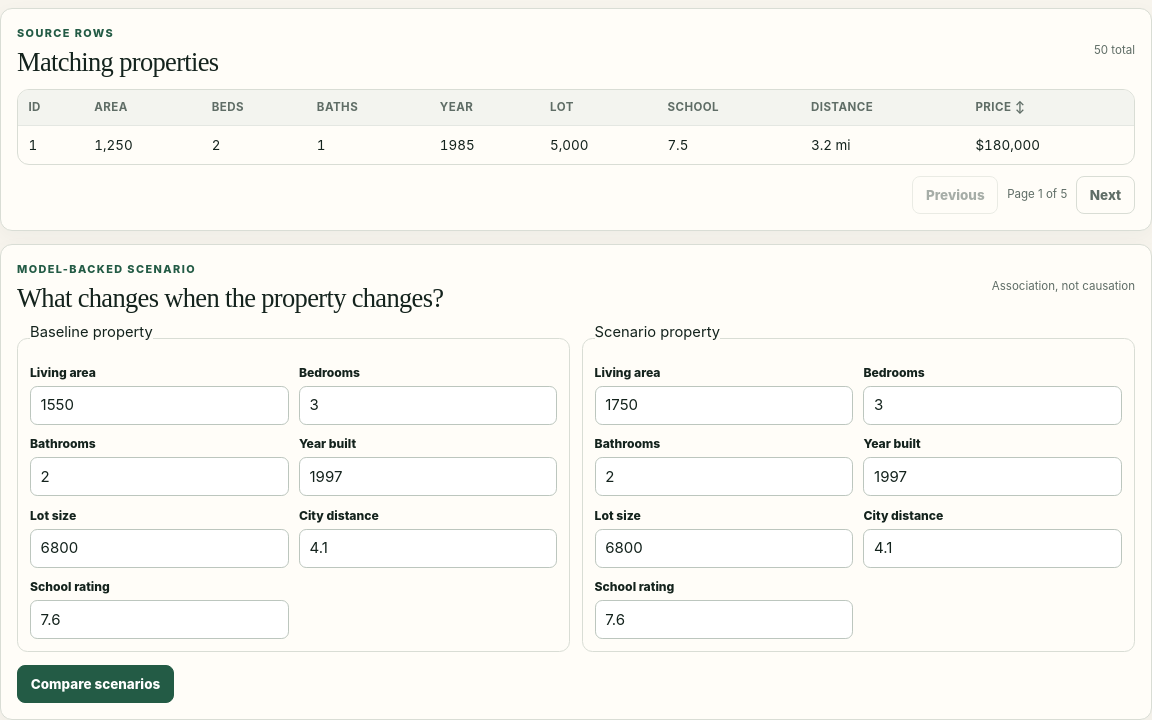
Scenario: MarketDashboard › runs the model-backed what-if comparison
This screenshot has width=1152, height=720.
(page scrolled)
Click the button "Compare scenarios" at (96, 684), box [17,665,174,703]
(page scrolled)
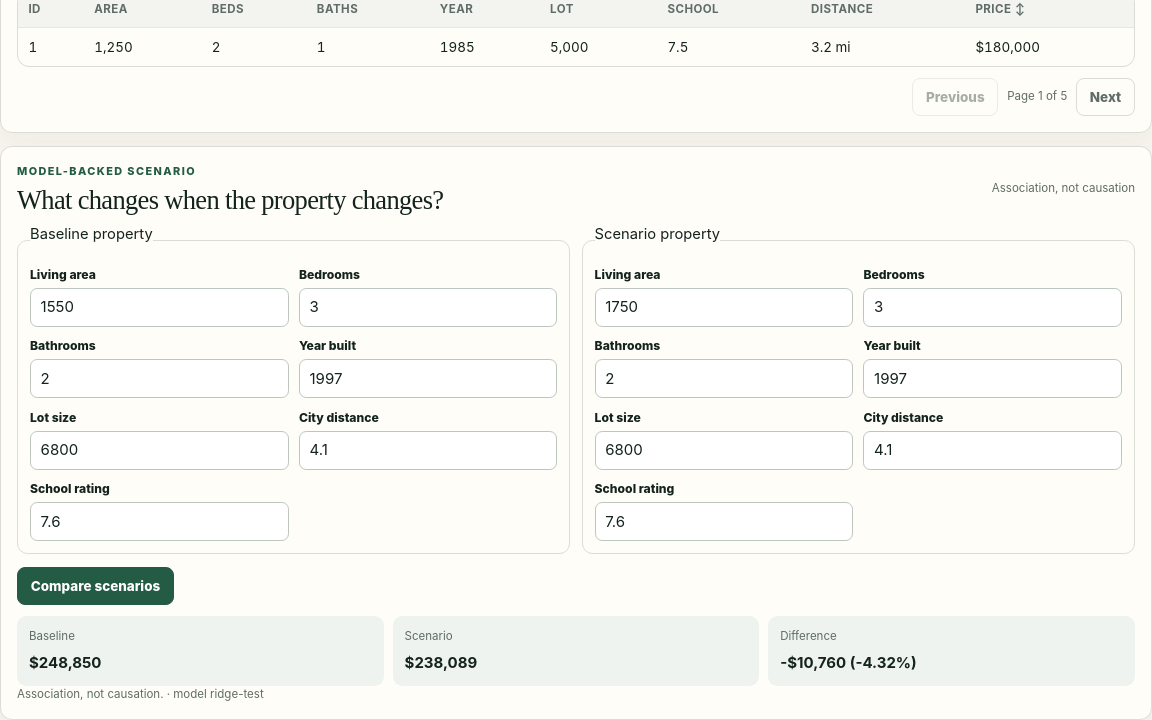
Now the text "$248,850" is shown, box [29,653,101,672]
Now the text "Association, not causation." is shown, box [17,687,164,701]
